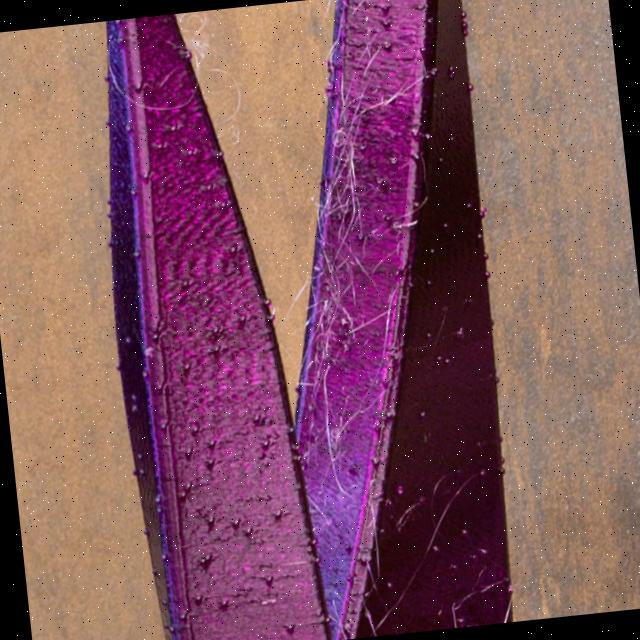stringing: (291, 113, 384, 422), (172, 8, 242, 126)
